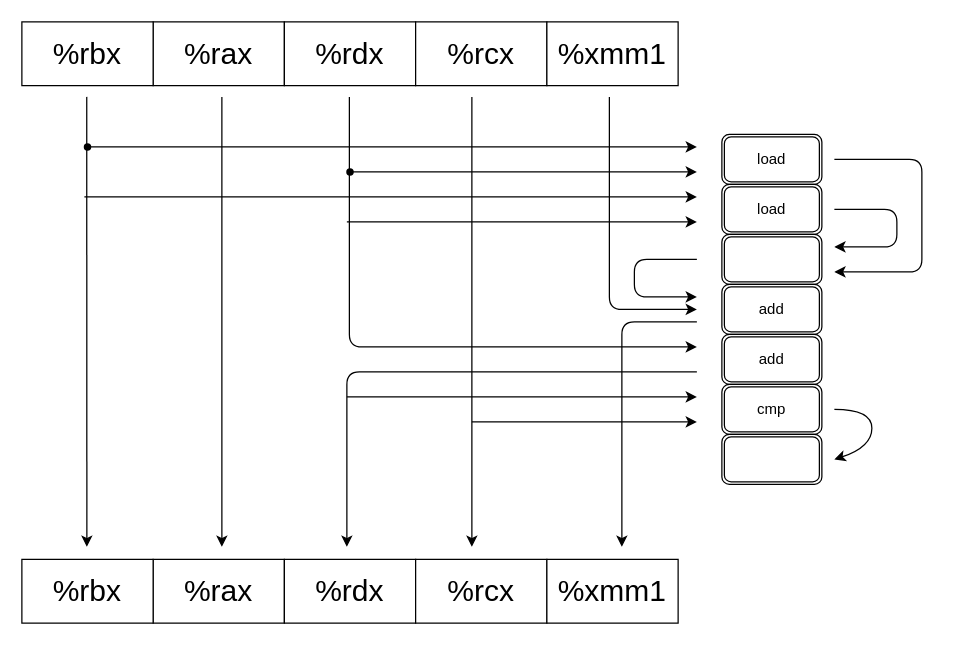
Some shapes in this 954 by 645 pixel diagram are drawn without their labels. Each missing label, with the centre of its shape:
"jg" goes at (x=771, y=458).
"mul" goes at (x=771, y=258).
